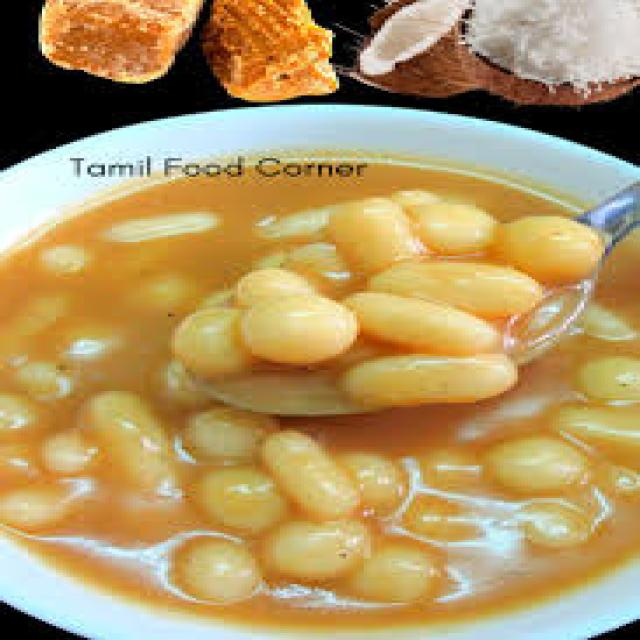paal kolukattai: (0, 169, 640, 631)
